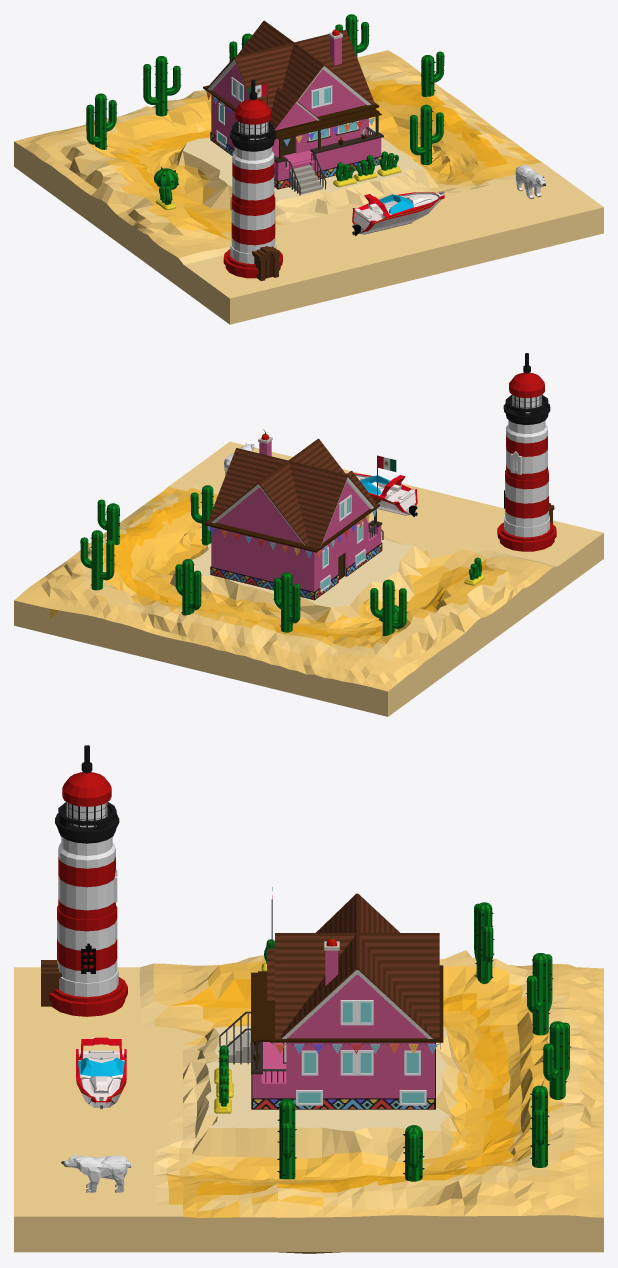
The picture shows the model from 3 angles, top to bottom: view 1: azimuth 30°, elevation 25°; view 2: azimuth 150°, elevation 25°; view 3: azimuth 270°, elevation 25°; orthographic projection. The views are drawn at different scales.
Parts seen in each view (by area): view 1: Cube.001, Cube.1005, OBJRANDOM_LIGHTHOUSE, VEHICLES_BOAT, Cylinder.044, Cylinder.037, Cylinder.045, Cylinder.038, ANIMAL_OSO_POLAR, Cylinder.042, Cylinder.039, Cylinder.041; view 2: Cube.001, Cube.1005, OBJRANDOM_LIGHTHOUSE, VEHICLES_BOAT, Cylinder.042, Cylinder.045, Cylinder.044, Cylinder.043, Cylinder.037, Cylinder.038; view 3: Cube.001, Cube.1005, OBJRANDOM_LIGHTHOUSE, VEHICLES_BOAT, Cylinder.044, Cylinder.043, ANIMAL_OSO_POLAR, Cylinder.045, Cylinder.037, Cylinder.042, Cylinder.038.
Boxes of the visible parts, x1,y1,x2,y2 form: Cube.001: (14,50,603,324); Cube.1005: (203,20,383,195); OBJRANDOM_LIGHTHOUSE: (223,79,282,281); VEHICLES_BOAT: (352,191,444,235); Cylinder.044: (143,56,181,116); Cylinder.037: (409,104,444,165); Cylinder.045: (86,93,116,149); Cylinder.038: (421,51,444,97); ANIMAL_OSO_POLAR: (515,164,546,198); Cylinder.042: (335,14,369,57); Cylinder.039: (333,162,356,187); Cylinder.041: (377,151,401,176); Cube.001: (14,441,603,716); Cube.1005: (203,429,396,600); OBJRANDOM_LIGHTHOUSE: (497,353,556,551); VEHICLES_BOAT: (345,473,417,516); Cylinder.042: (80,530,115,590); Cylinder.045: (370,579,407,636); Cylinder.044: (273,572,300,632); Cylinder.043: (175,559,201,615); Cylinder.037: (190,485,213,545); Cylinder.038: (97,499,119,544); Cube.001: (14,950,603,1252); Cube.1005: (219,887,443,1109); OBJRANDOM_LIGHTHOUSE: (41,745,127,1016); VEHICLES_BOAT: (76,1037,126,1109); Cylinder.044: (526,953,553,1035); Cylinder.043: (542,1021,570,1099); ANIMAL_OSO_POLAR: (61,1153,131,1192); Cylinder.045: (474,902,494,984); Cylinder.037: (277,1099,296,1179); Cylinder.042: (530,1085,549,1167); Cylinder.038: (403,1125,424,1181).
Bounding box in the file's own units: 4002 × 2316 × 4001.
Materials: 70 (4 with a texture image).
